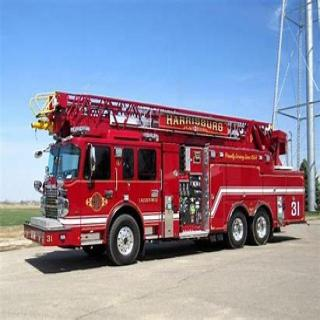Fire_truck: (22, 89, 306, 265)
